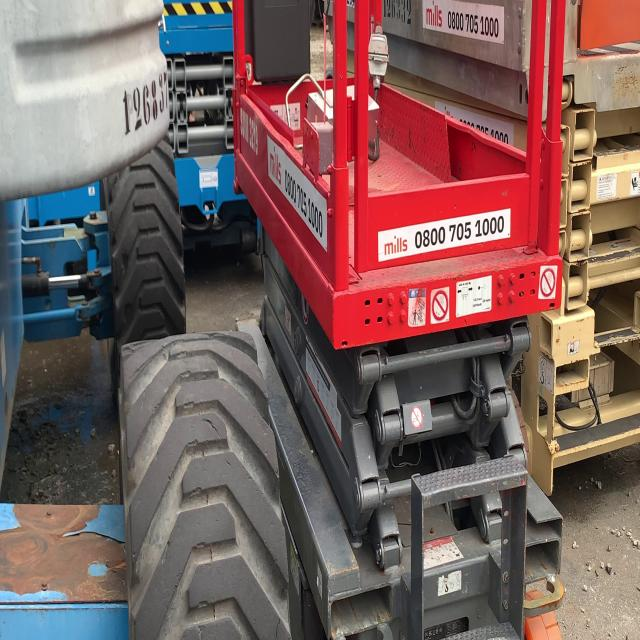Adesivo Longo: (376, 205, 513, 265), (266, 132, 329, 259)
